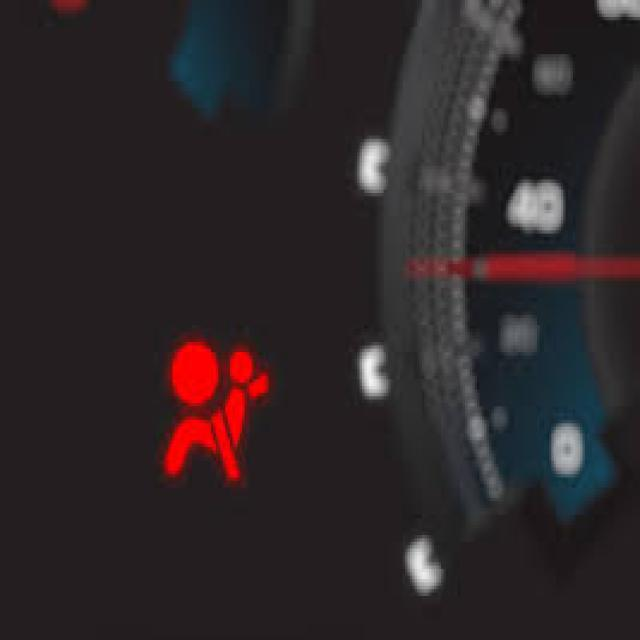Airbag: (147, 320, 282, 511)
